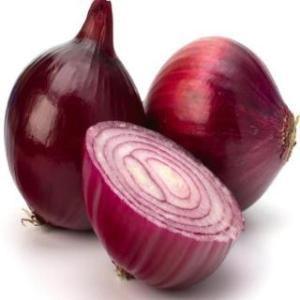onion: (4, 1, 144, 233), (81, 118, 244, 290), (142, 33, 294, 215)
